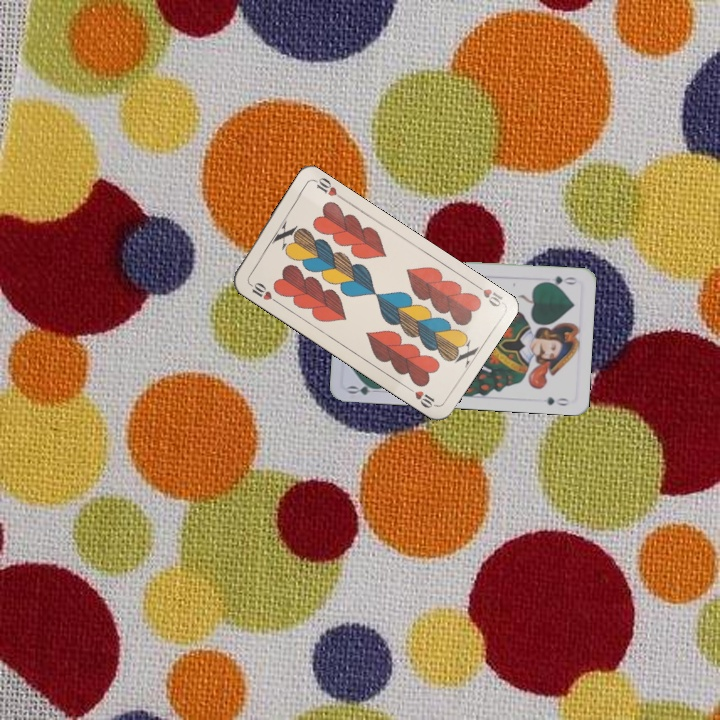GO: (344, 379, 385, 397), (539, 272, 580, 289)
H10: (469, 279, 506, 309), (244, 278, 280, 306)
